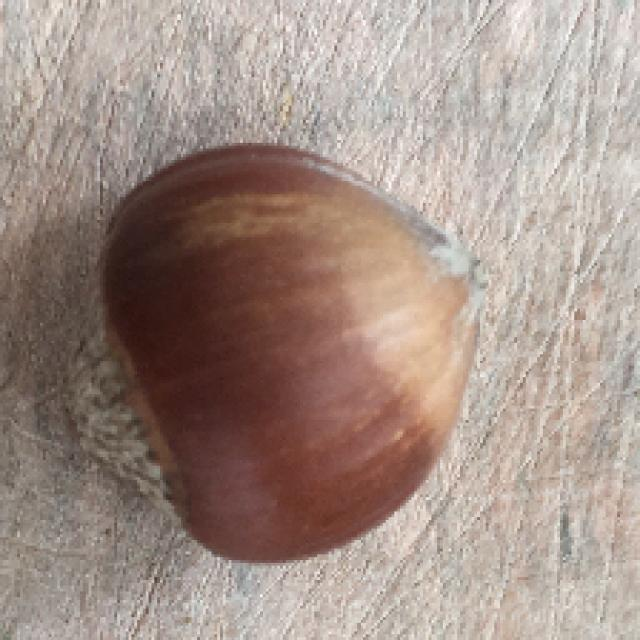DamagedHazelnut: (64, 138, 493, 563)
